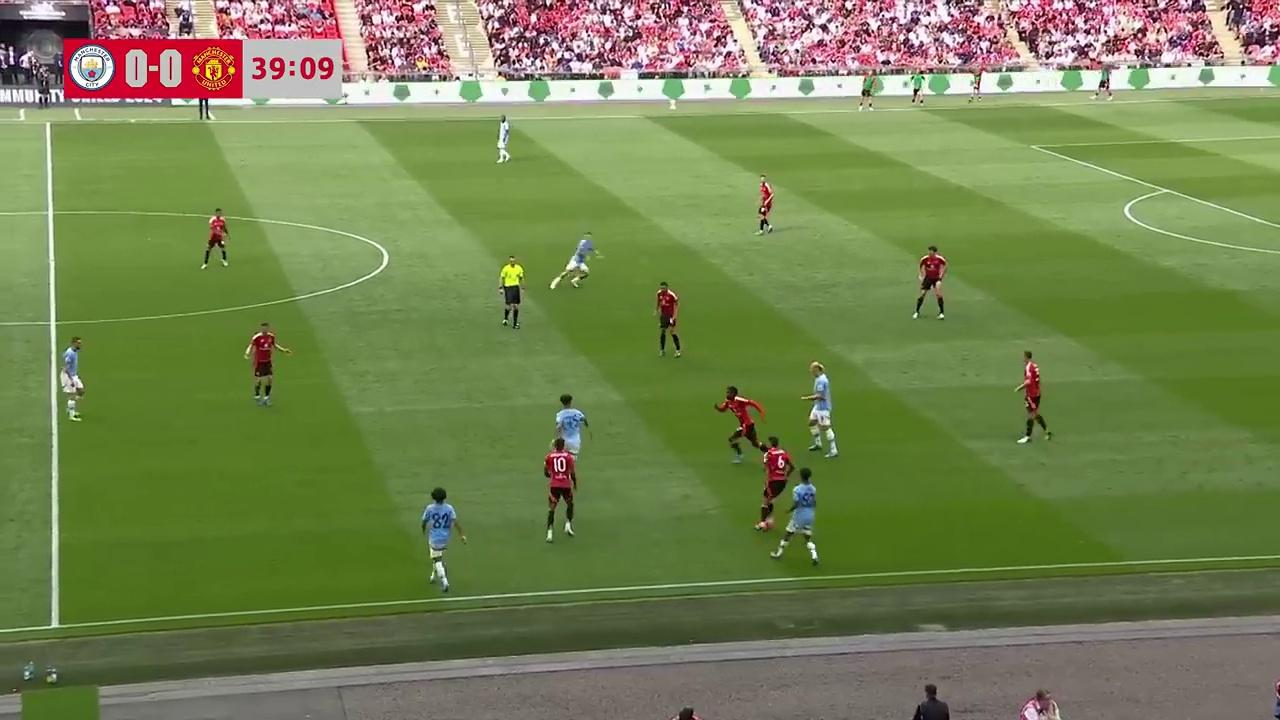player: (420, 486, 467, 593), (773, 467, 820, 565), (713, 384, 765, 462), (244, 320, 291, 406), (754, 435, 796, 529), (1013, 350, 1053, 443), (542, 438, 577, 543), (802, 361, 839, 457), (551, 233, 602, 289), (912, 245, 947, 319), (555, 396, 591, 465), (60, 336, 86, 421), (654, 281, 682, 357), (200, 207, 229, 269), (755, 175, 773, 235), (496, 116, 511, 162)
referee: (498, 255, 525, 330)
